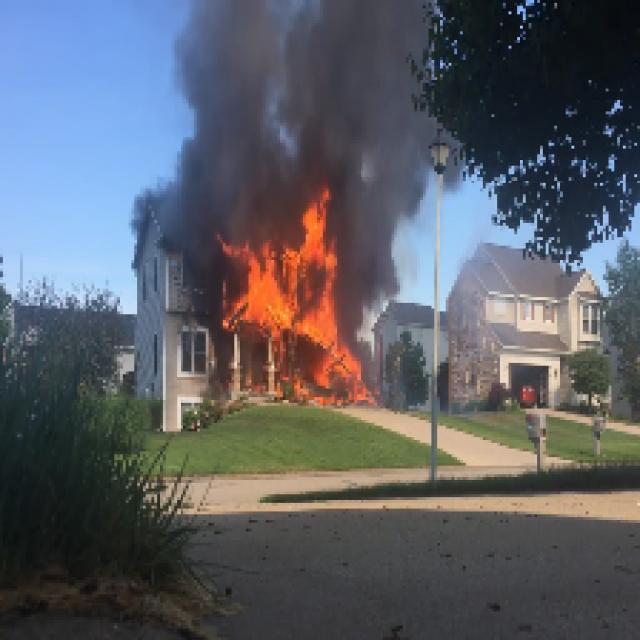fire: (245, 239, 335, 340)
smoke: (297, 10, 403, 226), (186, 14, 266, 227)
